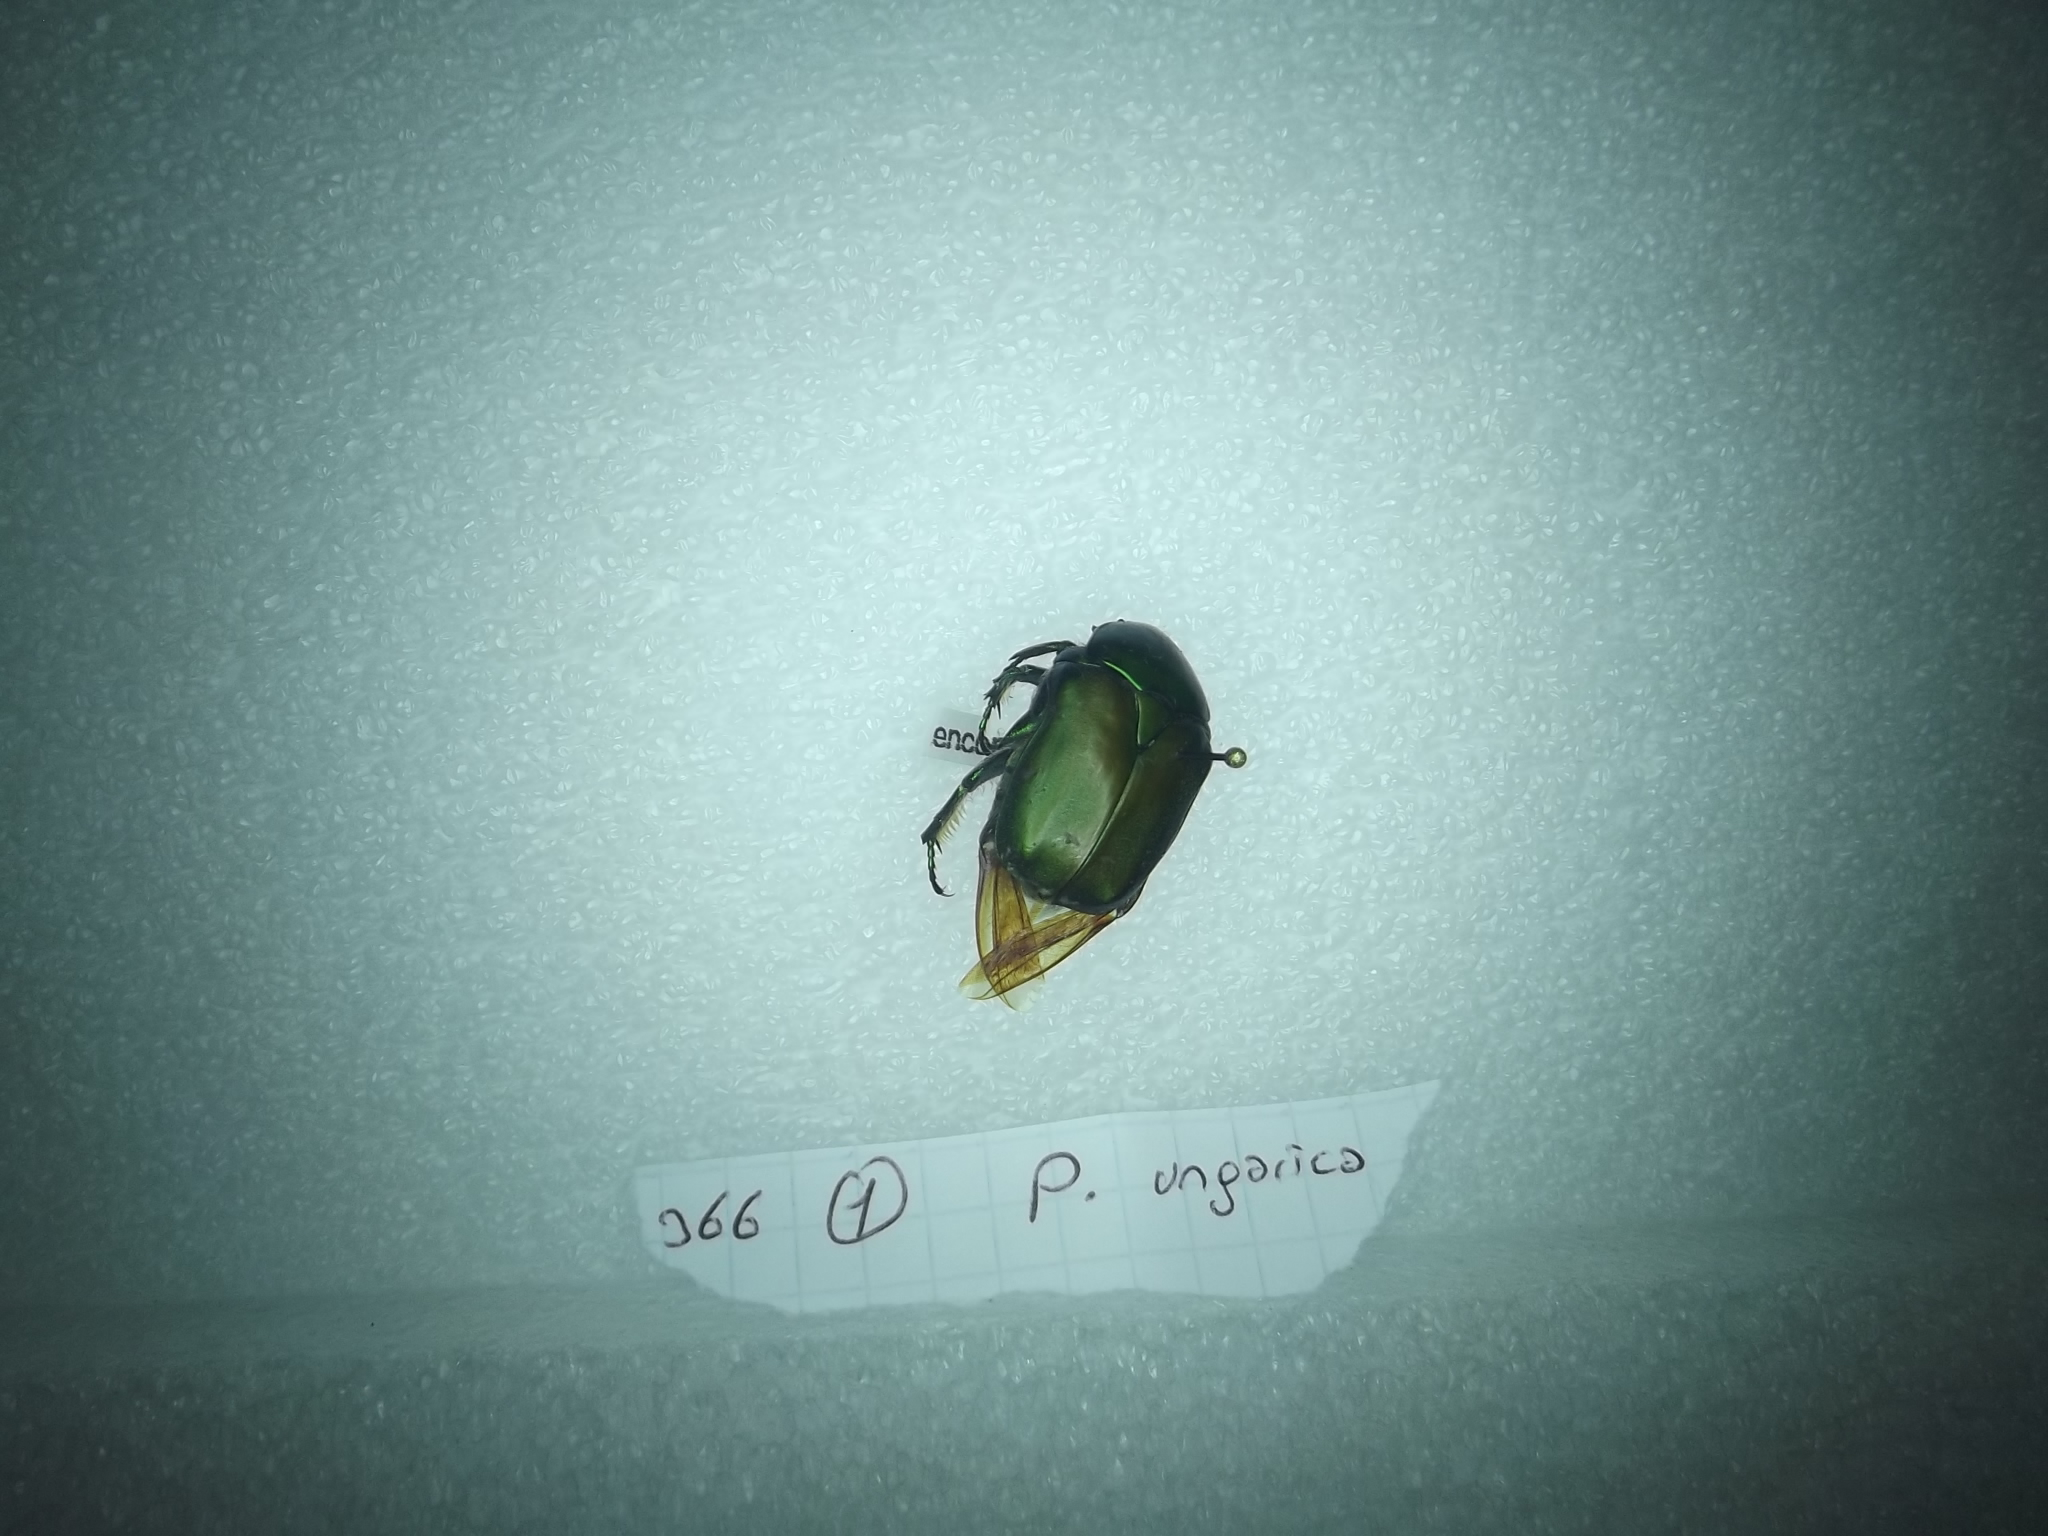Protaetia_ungarica_americana: (918, 565, 1227, 1033)
